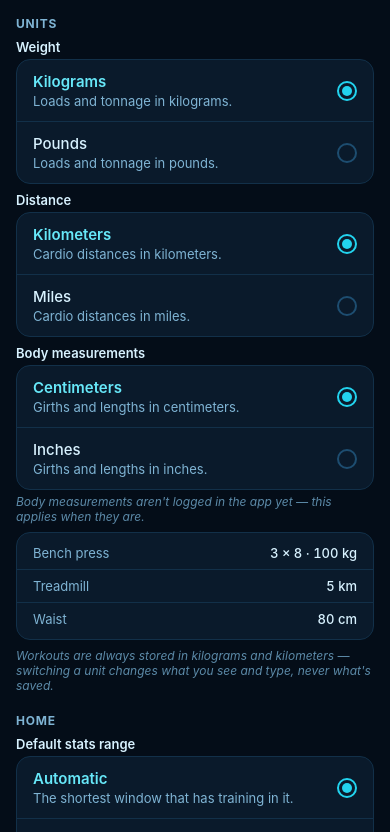
previews the same values in whichever units are picked
The image size is (390, 832).
Expected: the text "3 × 8 · 100 kg" is shown, [270,545,357,561]
Expected: the text "5 km" is shown, [326,578,357,594]
Click the text "Pounds": (60, 144) [33,134,87,153]
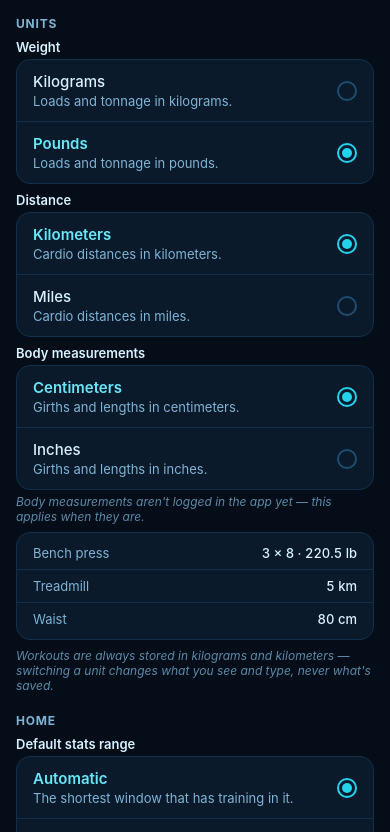
Click the text "Miles": (52, 296) [33,287,71,306]
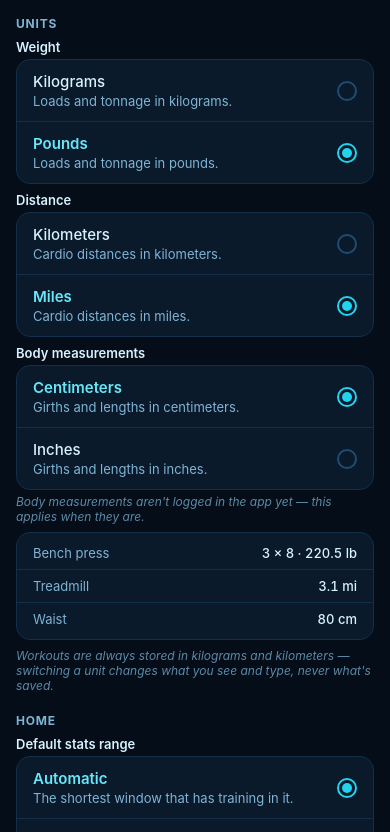
Click the text "Inches": (57, 450) [33,440,81,459]
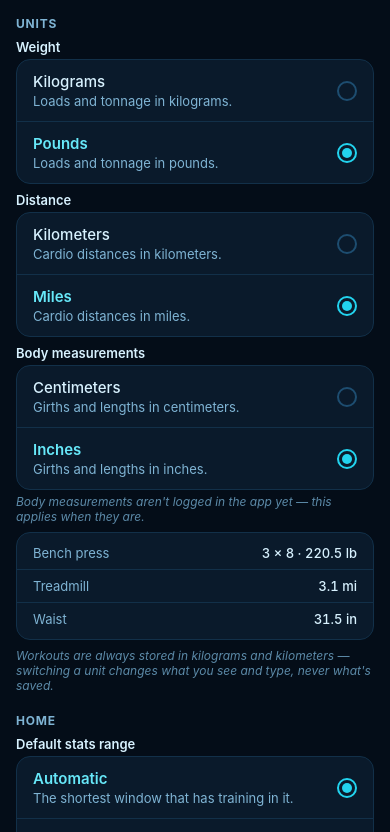
Now the text "3 × 8 · 220.5 lb" is shown, box [262,545,357,561]
Now the text "3.1 mi" is shown, box [318,578,357,594]
Now the text "31.5 in" is shown, box [314,611,357,627]
